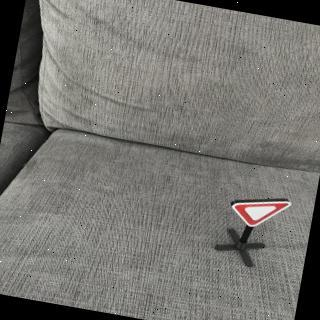sign_yield: (227, 187, 295, 236)
